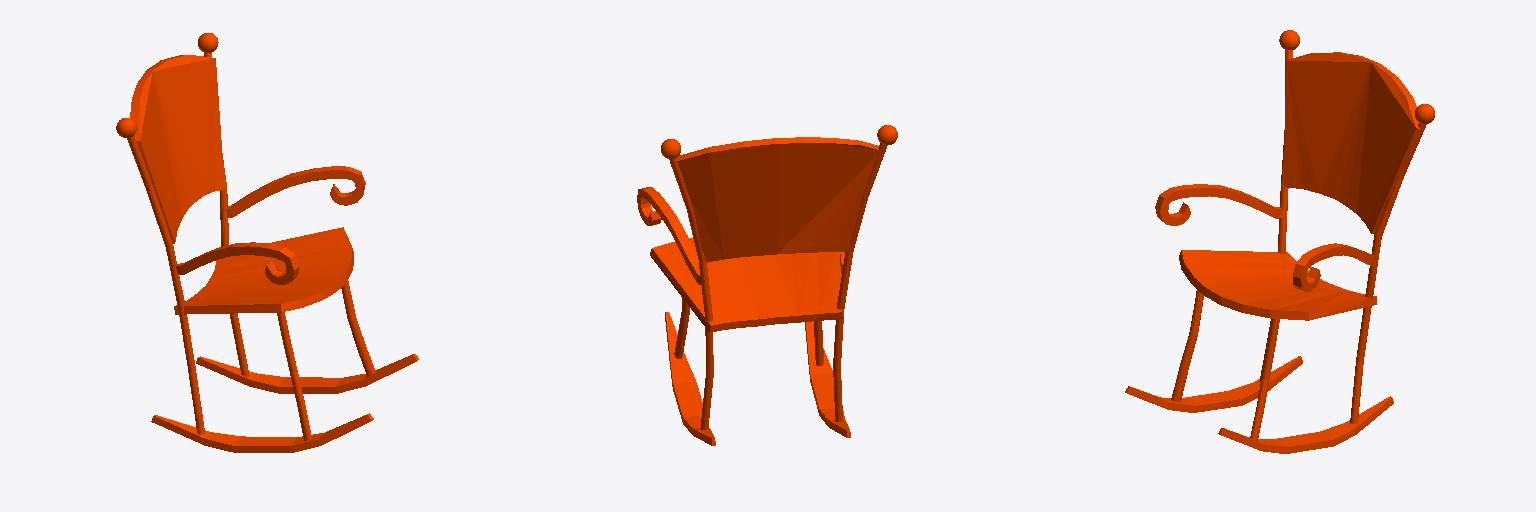
3 views of the same model, side by side, from view 1: azimuth 30°, elevation 25°; view 2: azimuth 150°, elevation 25°; view 3: azimuth 270°, elevation 25° (orthographic).
Parts seen in each view (by area): view 1: cenacompleta:Model group pasted__polySurface48, pasted__polySurface49 cenacompleta:Model group, cenacompleta:Model group pasted__polySurface57, cenacompleta:Model group pasted__polySurface58, cenacompleta:Model group pasted__polySurface52, cenacompleta:Model group pasted__polySurface51, cenacompleta:Model group pasted__polySurface59, cenacompleta:Model group pasted__polySurface56, cenacompleta:Model group pasted__polySurface50, cenacompleta:Model group pasted__polySurface55; view 2: cenacompleta:Model group pasted__polySurface48, pasted__polySurface49 cenacompleta:Model group, cenacompleta:Model group pasted__polySurface58, cenacompleta:Model group pasted__polySurface50, cenacompleta:Model group pasted__polySurface52, cenacompleta:Model group pasted__polySurface51, cenacompleta:Model group pasted__polySurface57; view 3: cenacompleta:Model group pasted__polySurface48, pasted__polySurface49 cenacompleta:Model group, cenacompleta:Model group pasted__polySurface58, cenacompleta:Model group pasted__polySurface57, cenacompleta:Model group pasted__polySurface50, cenacompleta:Model group pasted__polySurface59, cenacompleta:Model group pasted__polySurface51, cenacompleta:Model group pasted__polySurface56, cenacompleta:Model group pasted__polySurface55, cenacompleta:Model group pasted__polySurface52.
Part boxes in pixels (left/top/right/bottom): cenacompleta:Model group pasted__polySurface48: left=130, top=55, right=224, bottom=243; pasted__polySurface49 cenacompleta:Model group: left=174, top=227, right=353, bottom=314; cenacompleta:Model group pasted__polySurface57: left=151, top=413, right=373, bottom=452; cenacompleta:Model group pasted__polySurface58: left=196, top=354, right=418, bottom=393; cenacompleta:Model group pasted__polySurface52: left=127, top=136, right=204, bottom=434; cenacompleta:Model group pasted__polySurface51: left=226, top=166, right=365, bottom=217; cenacompleta:Model group pasted__polySurface59: left=176, top=242, right=299, bottom=284; cenacompleta:Model group pasted__polySurface56: left=277, top=312, right=311, bottom=440; cenacompleta:Model group pasted__polySurface50: left=204, top=53, right=249, bottom=376; cenacompleta:Model group pasted__polySurface55: left=341, top=281, right=375, bottom=376; cenacompleta:Model group pasted__polySurface48: left=670, top=137, right=878, bottom=262; pasted__polySurface49 cenacompleta:Model group: left=650, top=238, right=842, bottom=332; cenacompleta:Model group pasted__polySurface58: left=665, top=312, right=715, bottom=445; cenacompleta:Model group pasted__polySurface50: left=669, top=158, right=713, bottom=429; cenacompleta:Model group pasted__polySurface52: left=833, top=143, right=887, bottom=421; cenacompleta:Model group pasted__polySurface51: left=637, top=187, right=700, bottom=284; cenacompleta:Model group pasted__polySurface57: left=805, top=321, right=850, bottom=437; cenacompleta:Model group pasted__polySurface48: left=1284, top=52, right=1423, bottom=233; pasted__polySurface49 cenacompleta:Model group: left=1179, top=250, right=1376, bottom=320; cenacompleta:Model group pasted__polySurface58: left=1218, top=396, right=1393, bottom=453; cenacompleta:Model group pasted__polySurface57: left=1125, top=356, right=1302, bottom=412; cenacompleta:Model group pasted__polySurface50: left=1350, top=123, right=1426, bottom=423; cenacompleta:Model group pasted__polySurface59: left=1155, top=184, right=1283, bottom=225; cenacompleta:Model group pasted__polySurface51: left=1293, top=243, right=1375, bottom=291; cenacompleta:Model group pasted__polySurface56: left=1171, top=290, right=1203, bottom=401; cenacompleta:Model group pasted__polySurface55: left=1250, top=319, right=1279, bottom=440; cenacompleta:Model group pasted__polySurface52: left=1260, top=50, right=1292, bottom=381.
Size of the model in its own units: 1.59 by 1.89 by 1.61.
Materials: 1 (1 with a texture image).